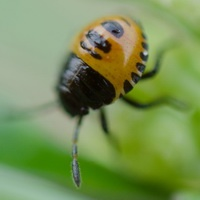insect: (59, 16, 199, 199), (0, 100, 73, 187)
